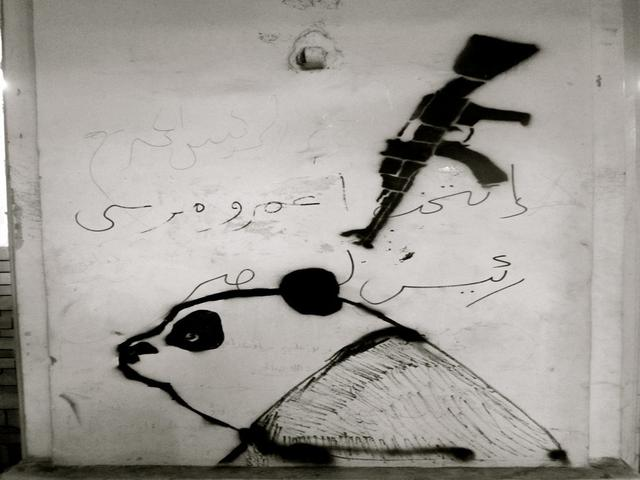panda: (62, 262, 633, 475)
